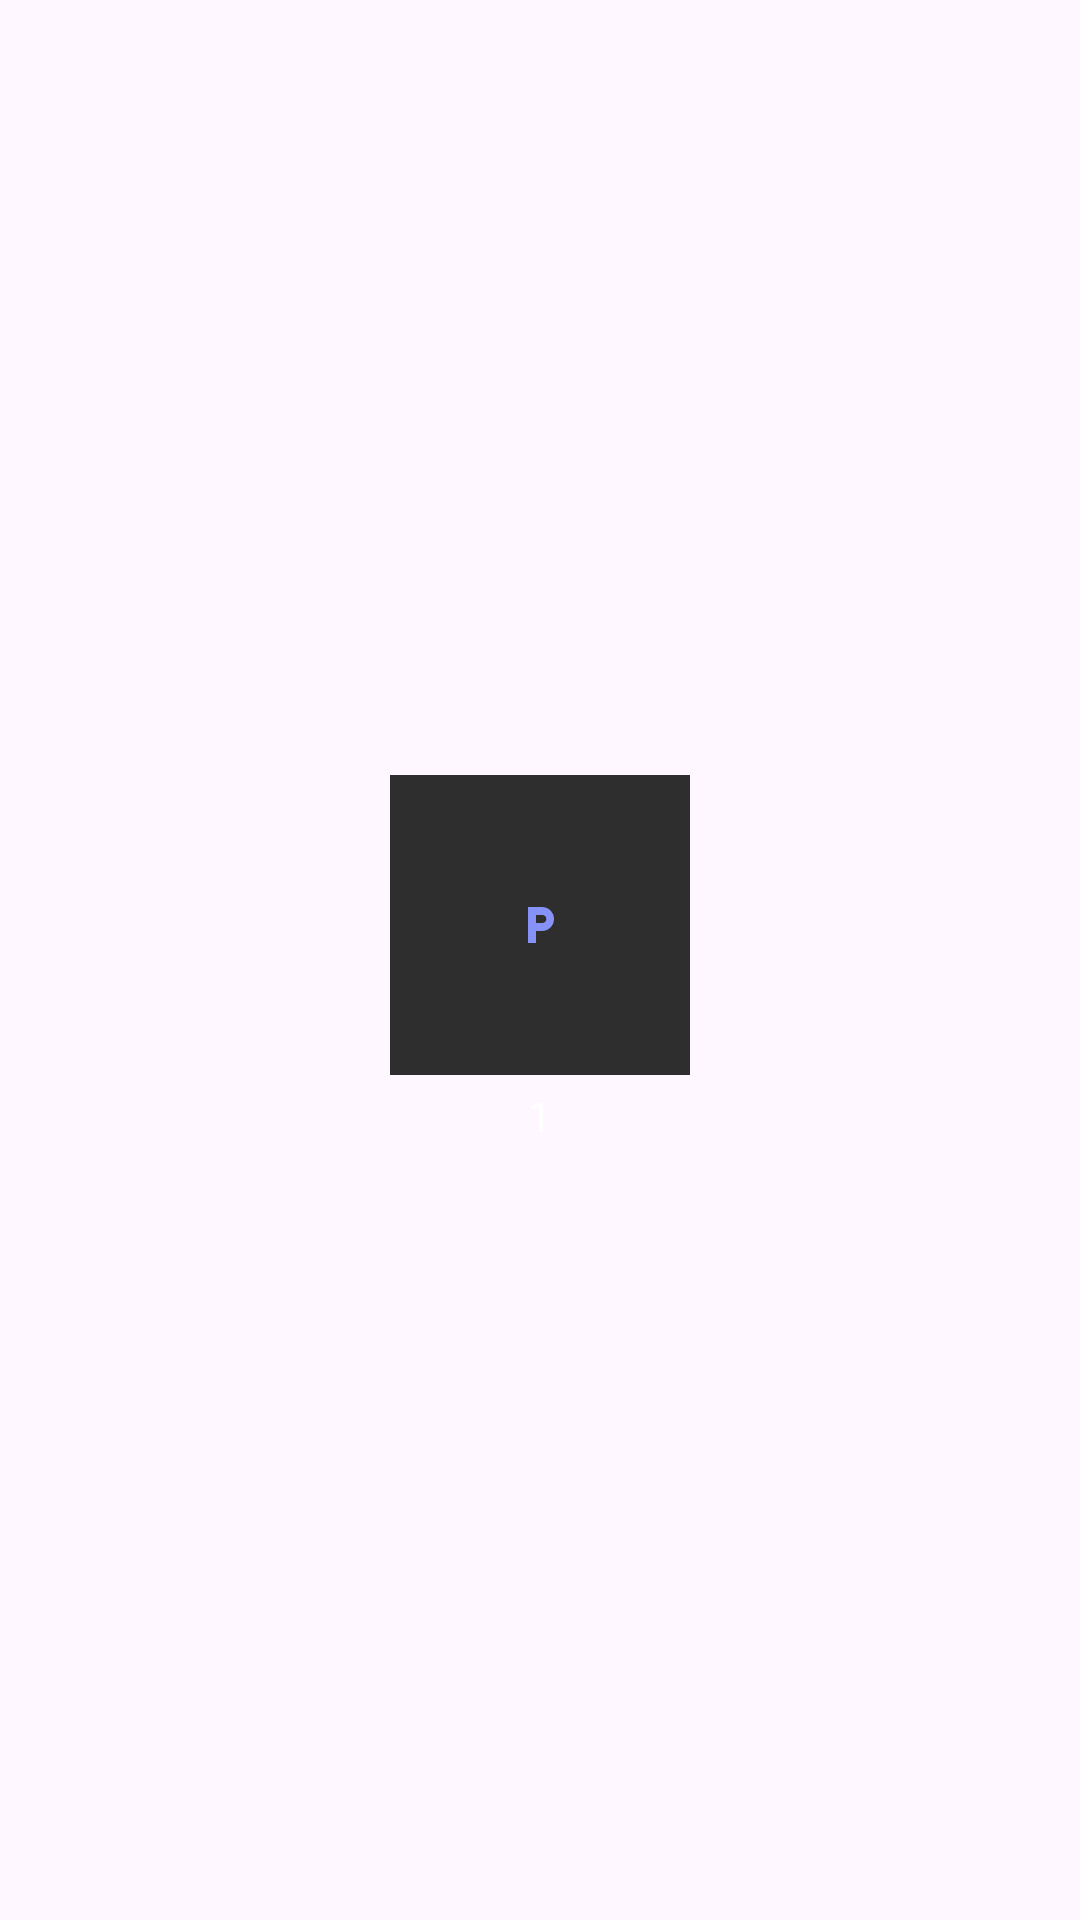

Icons on this 1080w x 1920h Android screen, each with its box as bbox=(x1, y1, x2, y2):
parking: bbox=(390, 775, 690, 1075)
